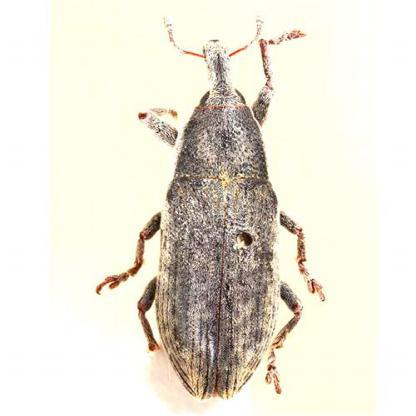rice-bug: (127, 33, 312, 398)
